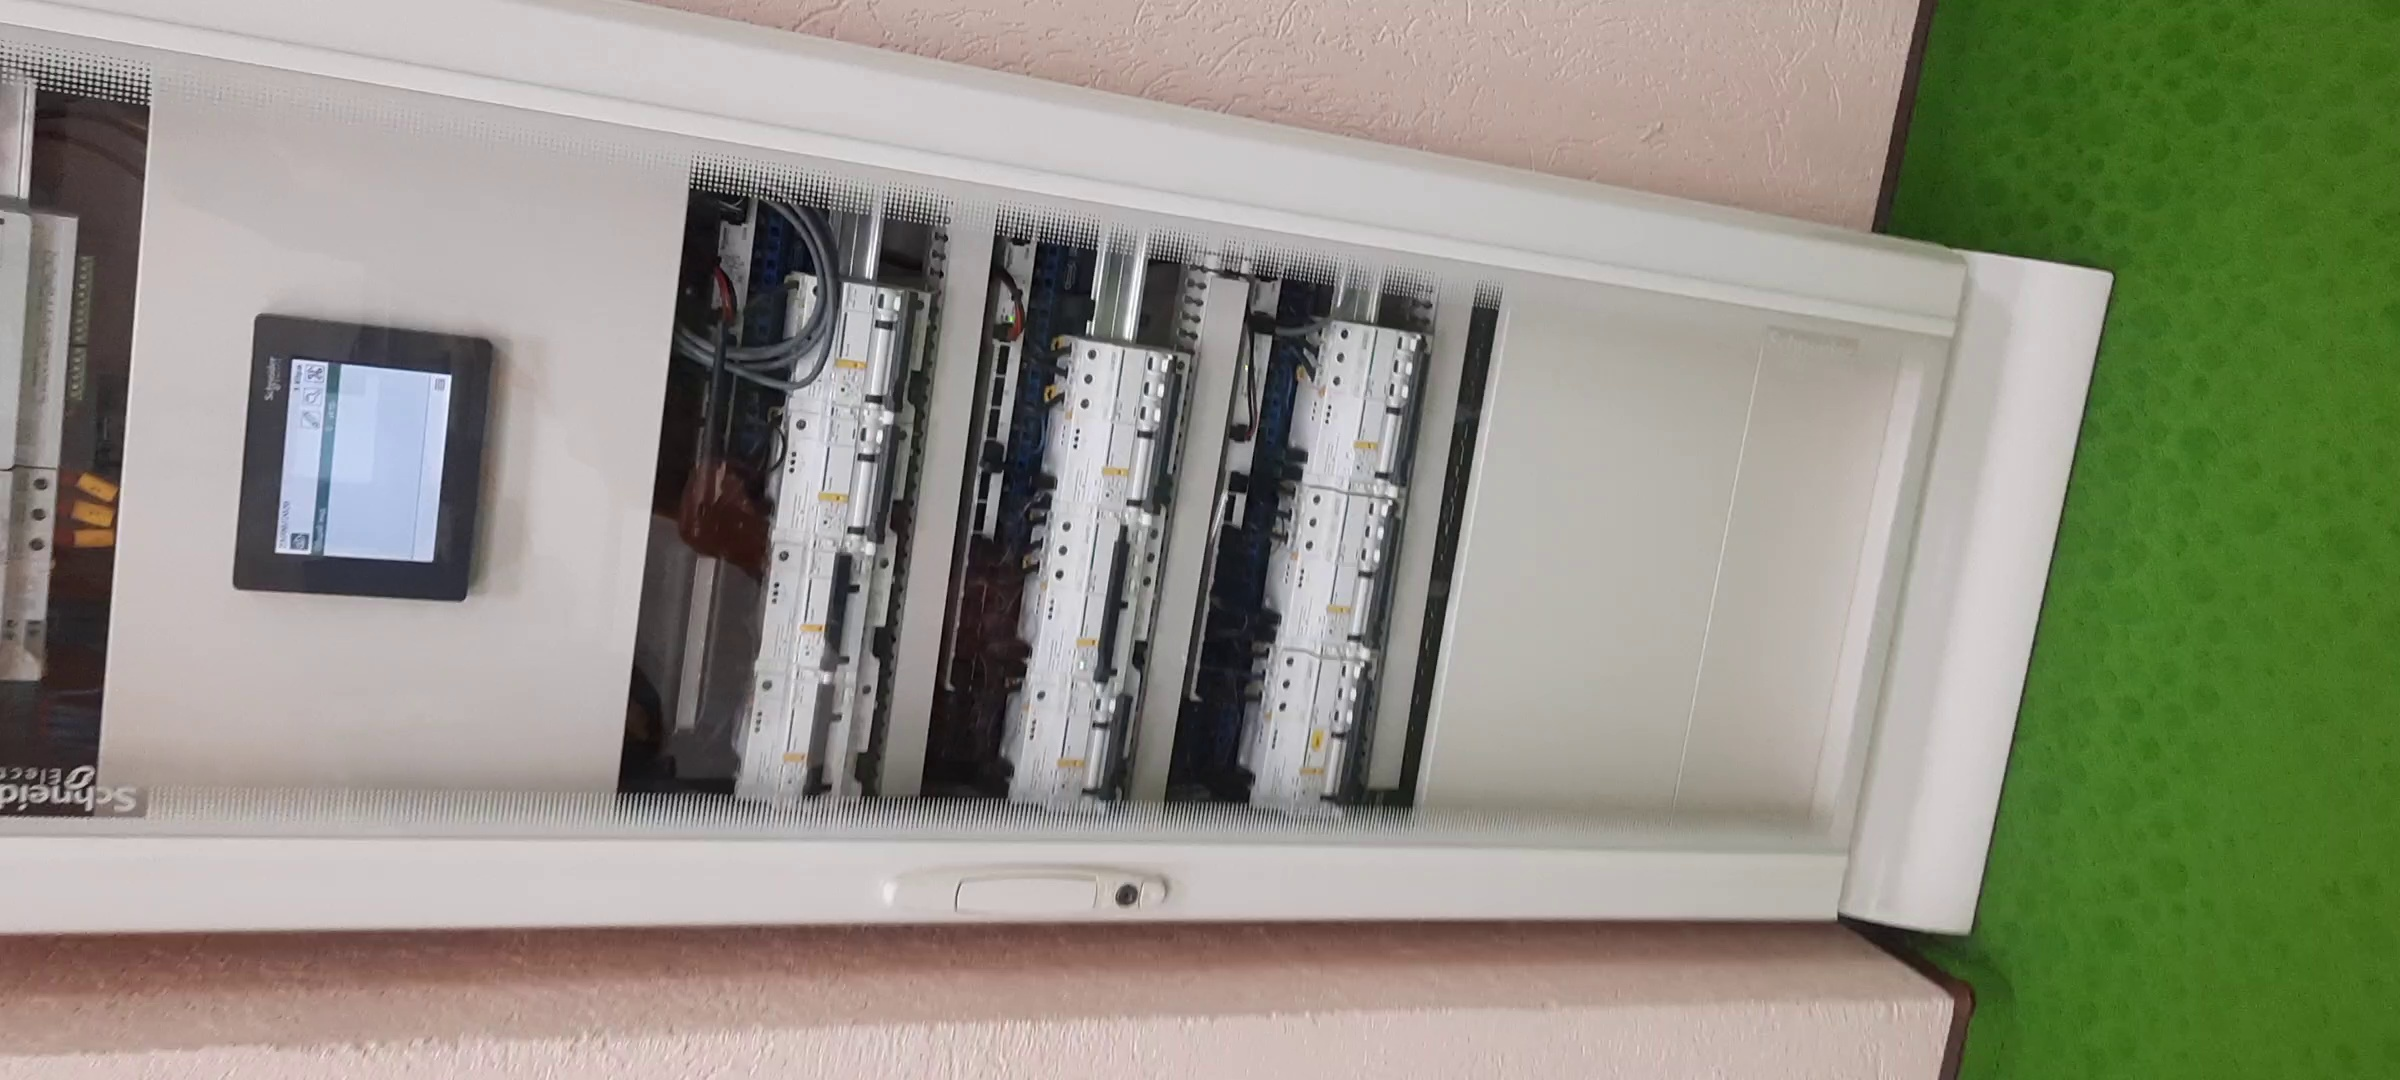smart_stand: (2, 58, 2037, 942)
